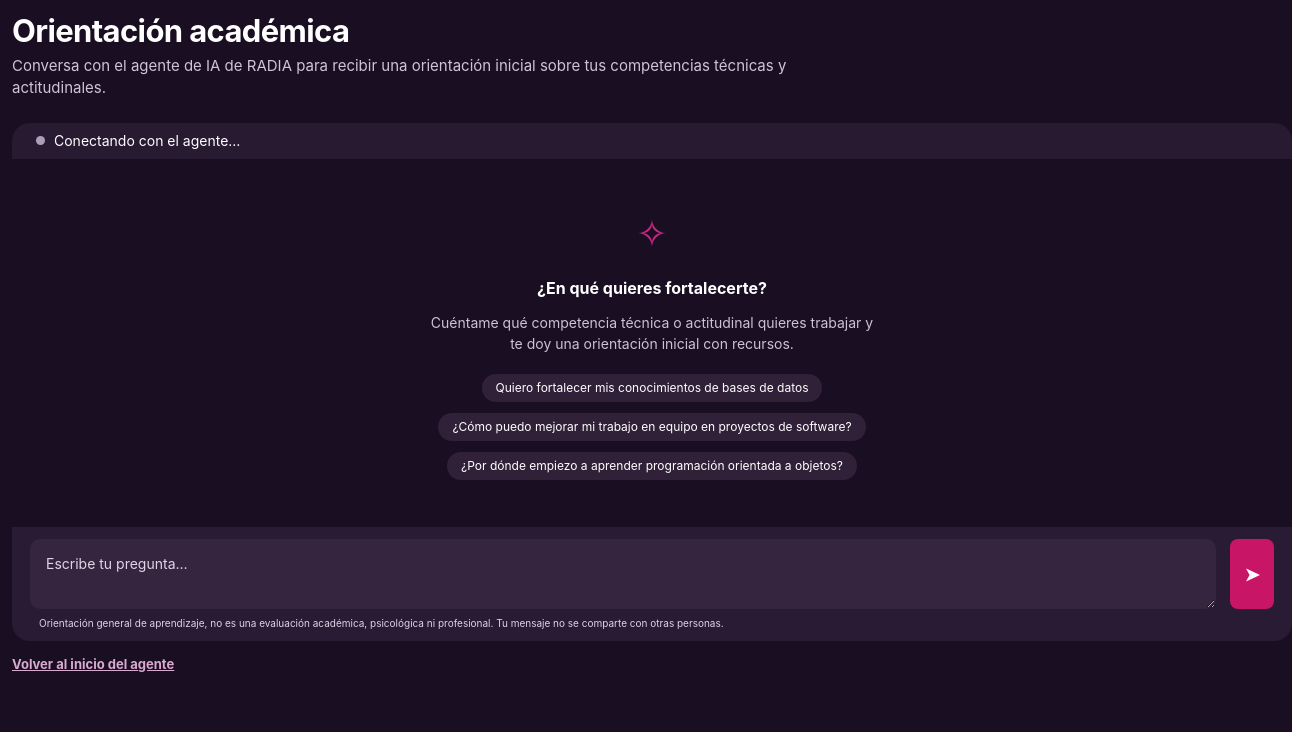
it: interfaz del chat orientativo › muestra una validación cuando el mensaje está vacío
What coordinates should you click on to do the following:
click the button named "Enviar mensaje"
I would click on:
 (1252, 574)
Its box is [1230, 539, 1274, 609].
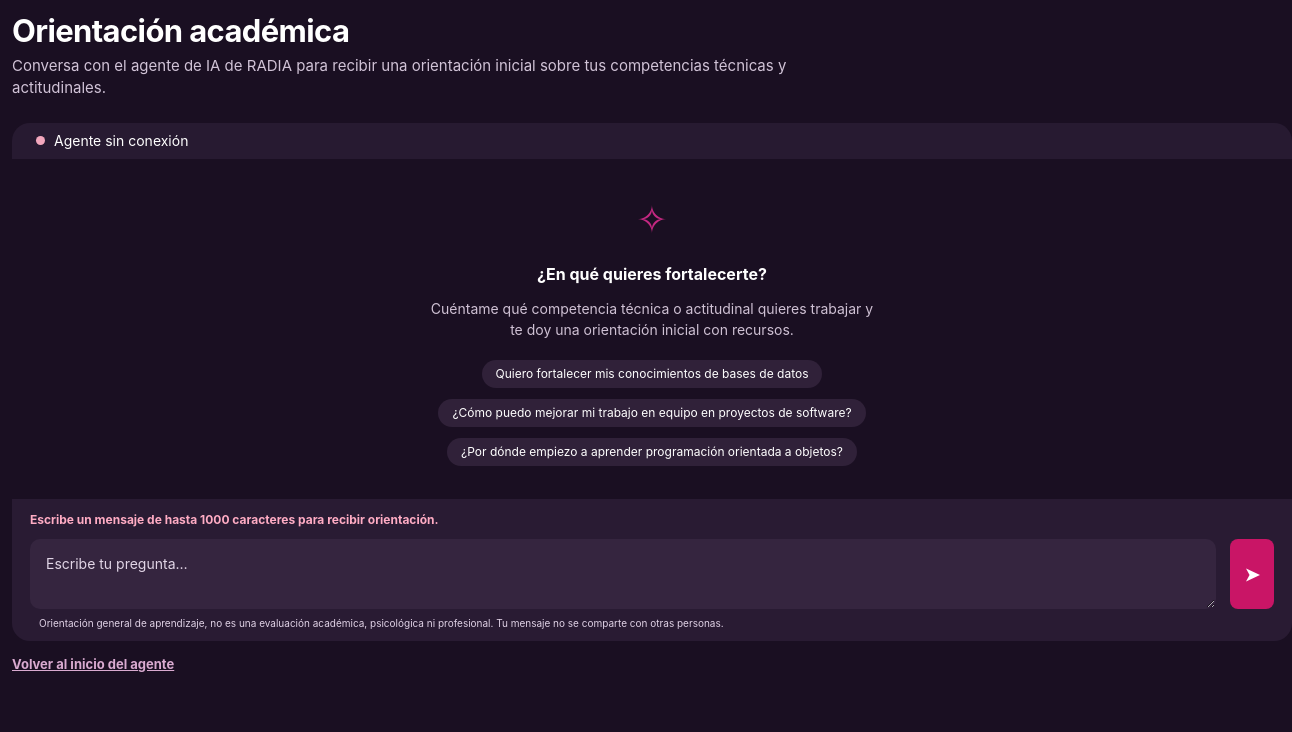
Expected: the text "Escribe un mensaje de hasta 1000 caracteres para recibir orientación." is shown, [30, 512, 438, 527]
